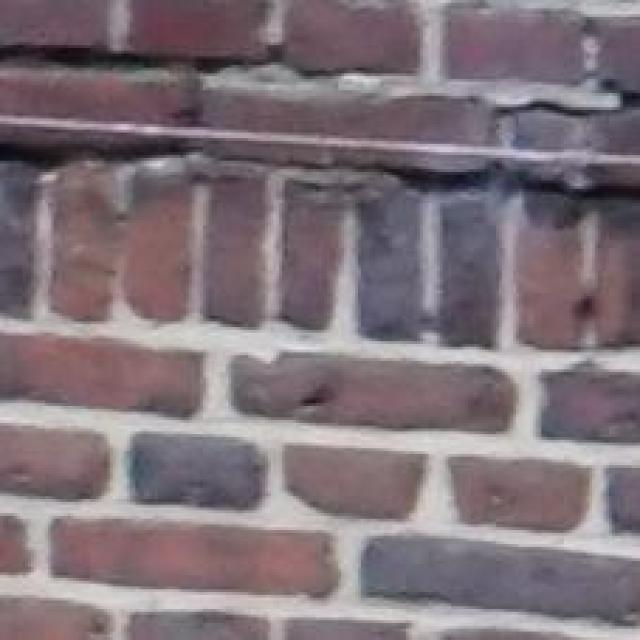Crack: (0, 0, 640, 311)
